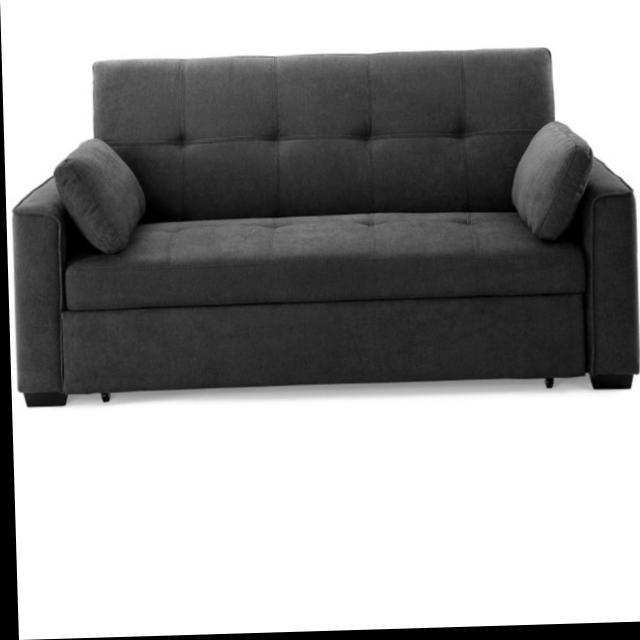Sofa: (6, 48, 640, 410)
